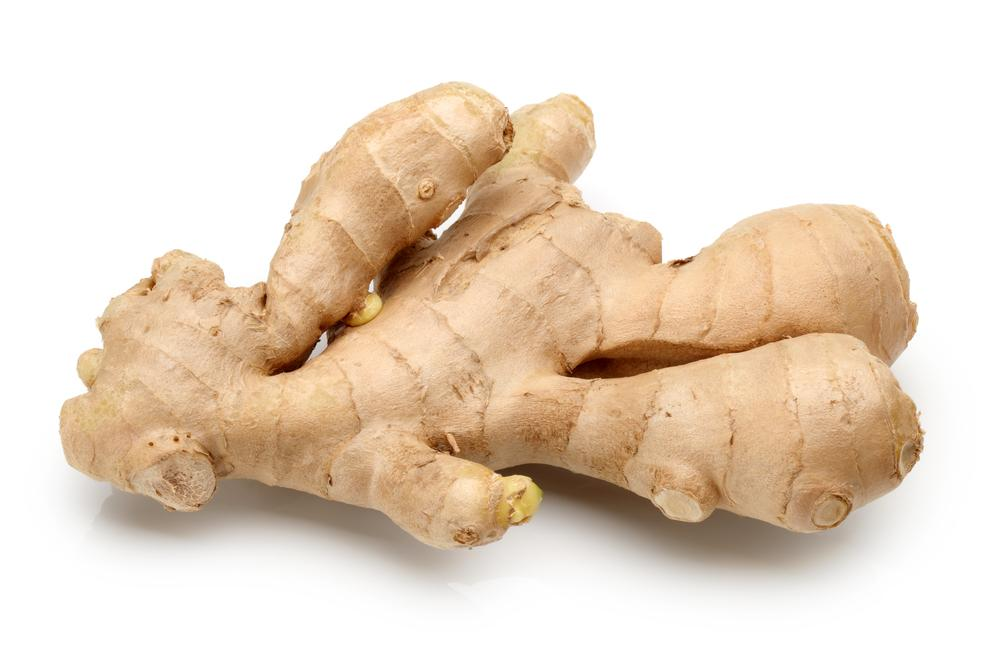ginger: (58, 79, 924, 550), (58, 78, 518, 512)
